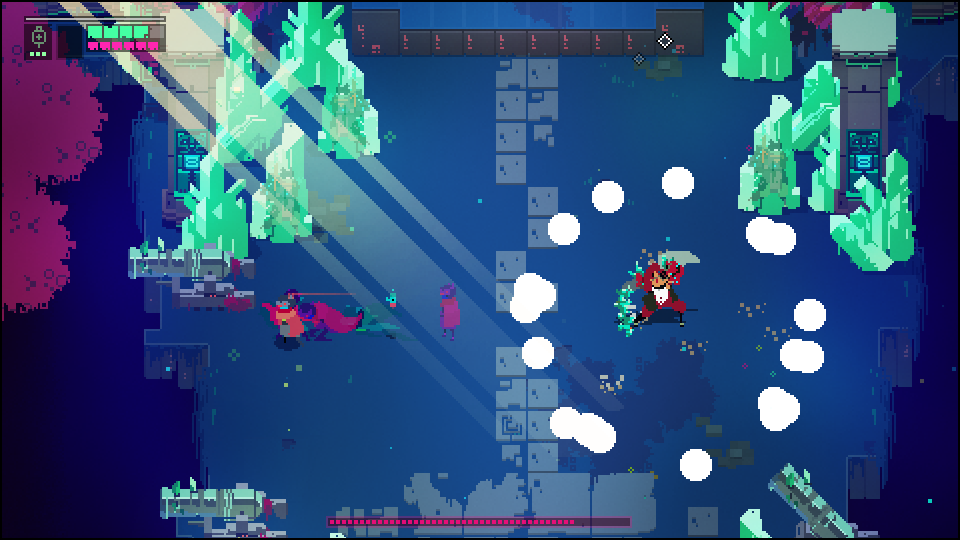hanged_man: (613, 247, 702, 346)
player: (270, 291, 308, 353)
